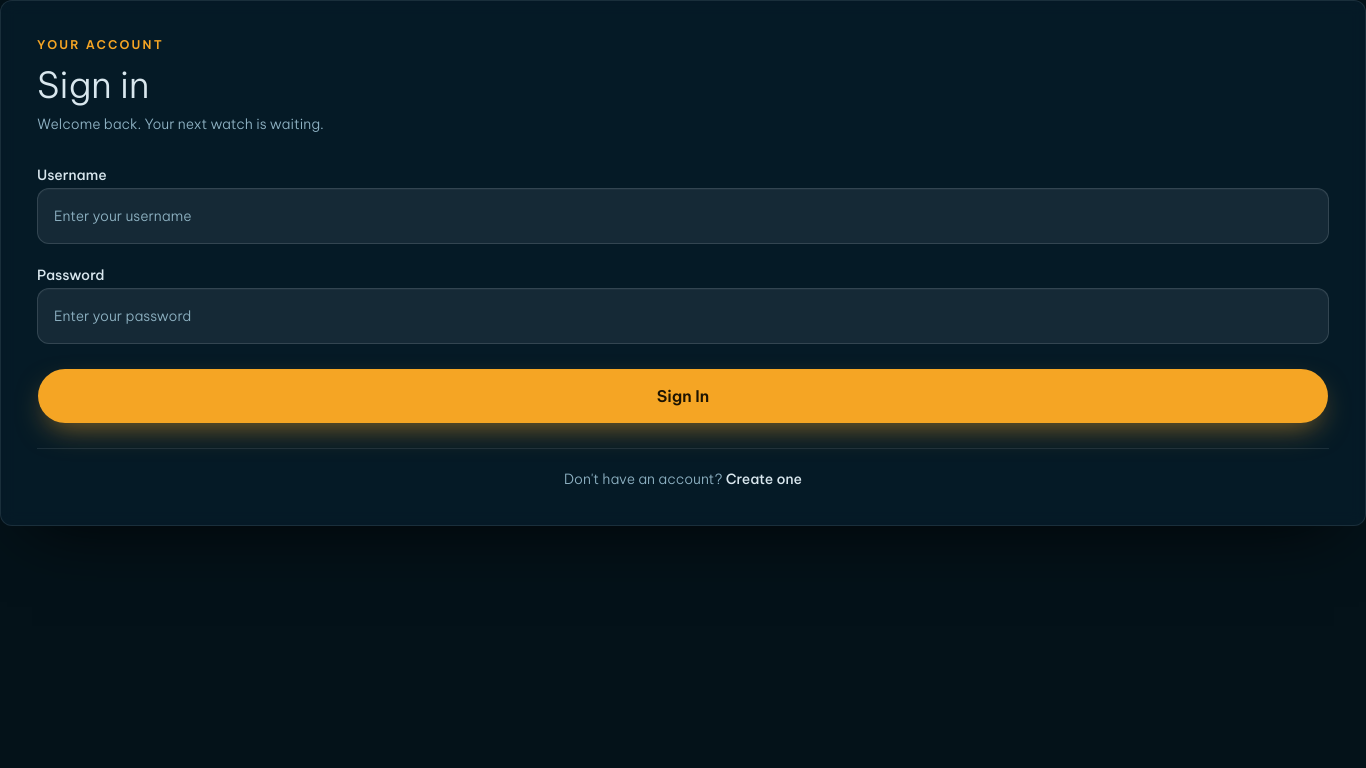
it: LoginForm › shows a fallback message when the failure has no error envelope
This screenshot has width=1366, height=768.
In the field labelled "Username": coordinates (683, 216) [37,188,1329,244], type "someuser"
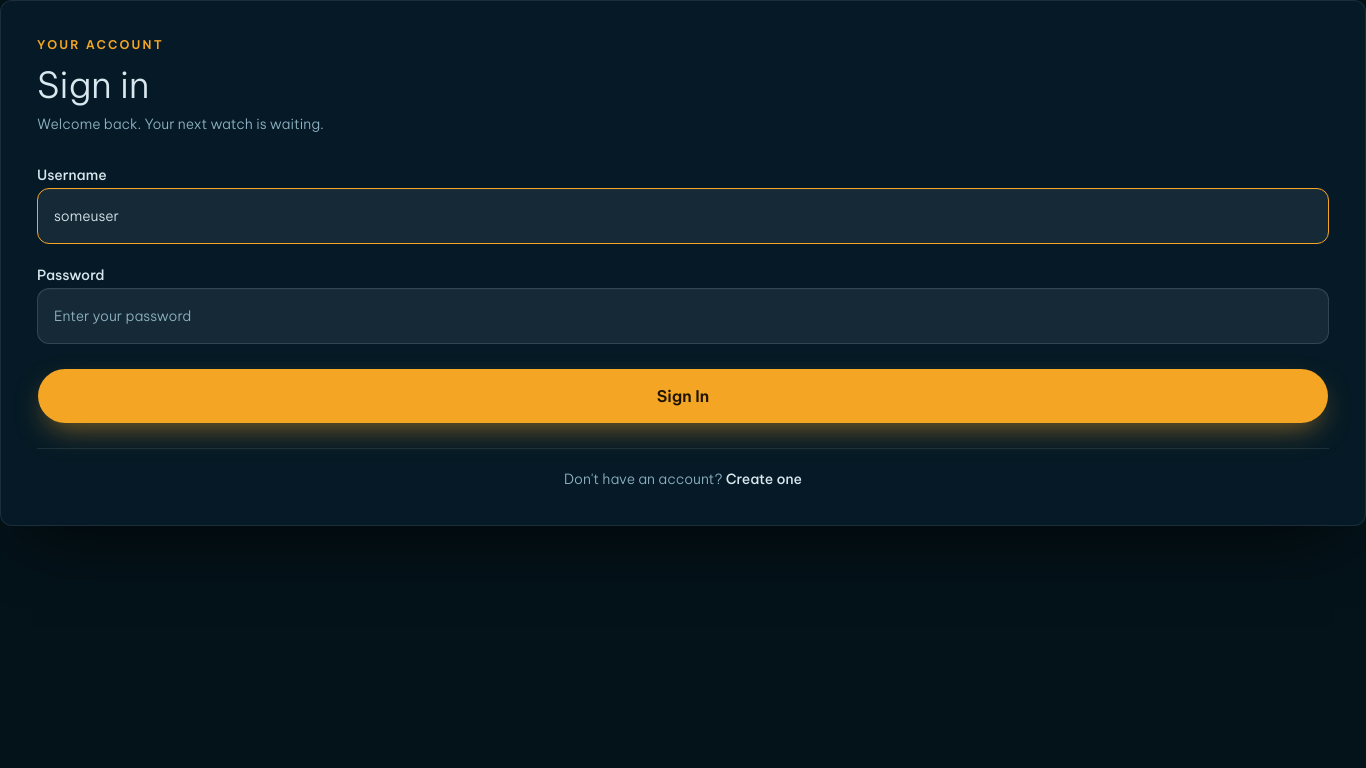
In the password field labelled "Password": coordinates (683, 316) [37,288,1329,344], type "wrongpass"
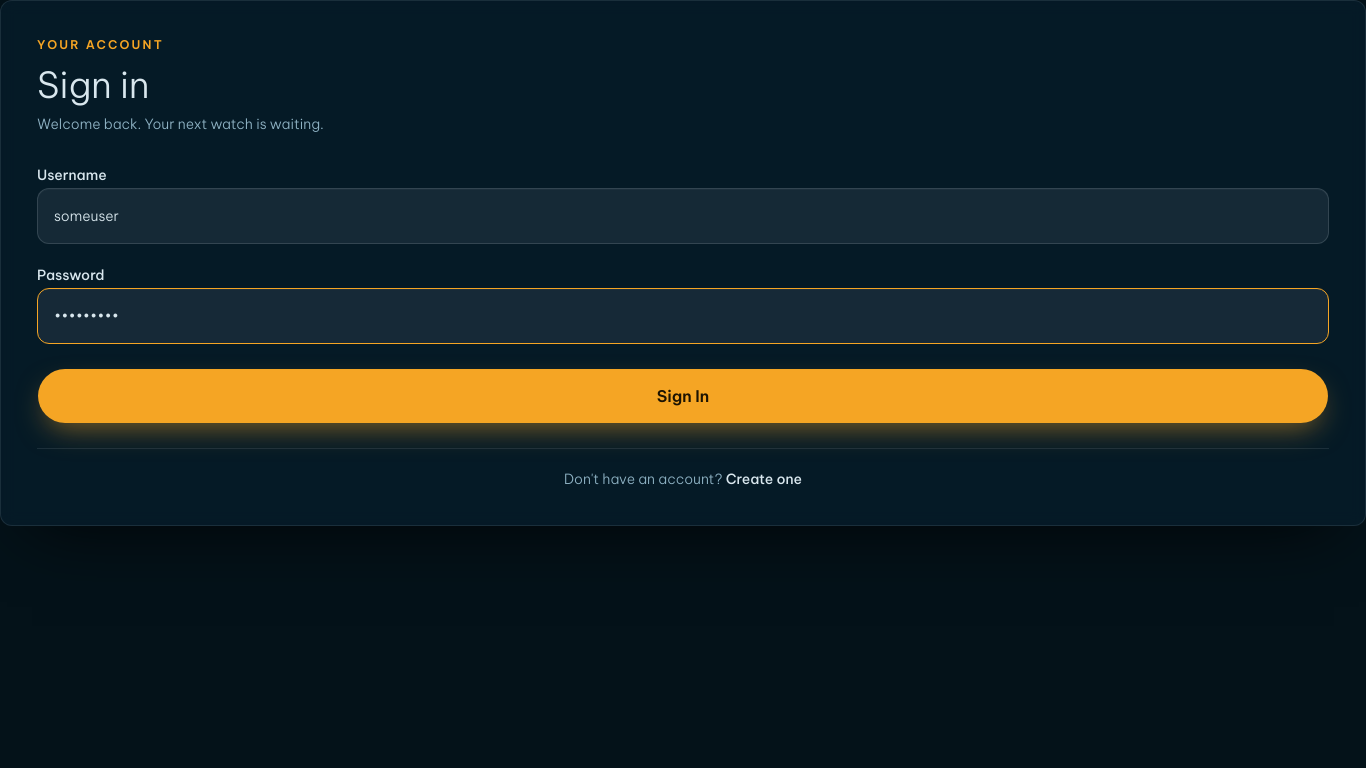
Click the button "Sign In": coordinates (683, 396) [37,368,1329,424]
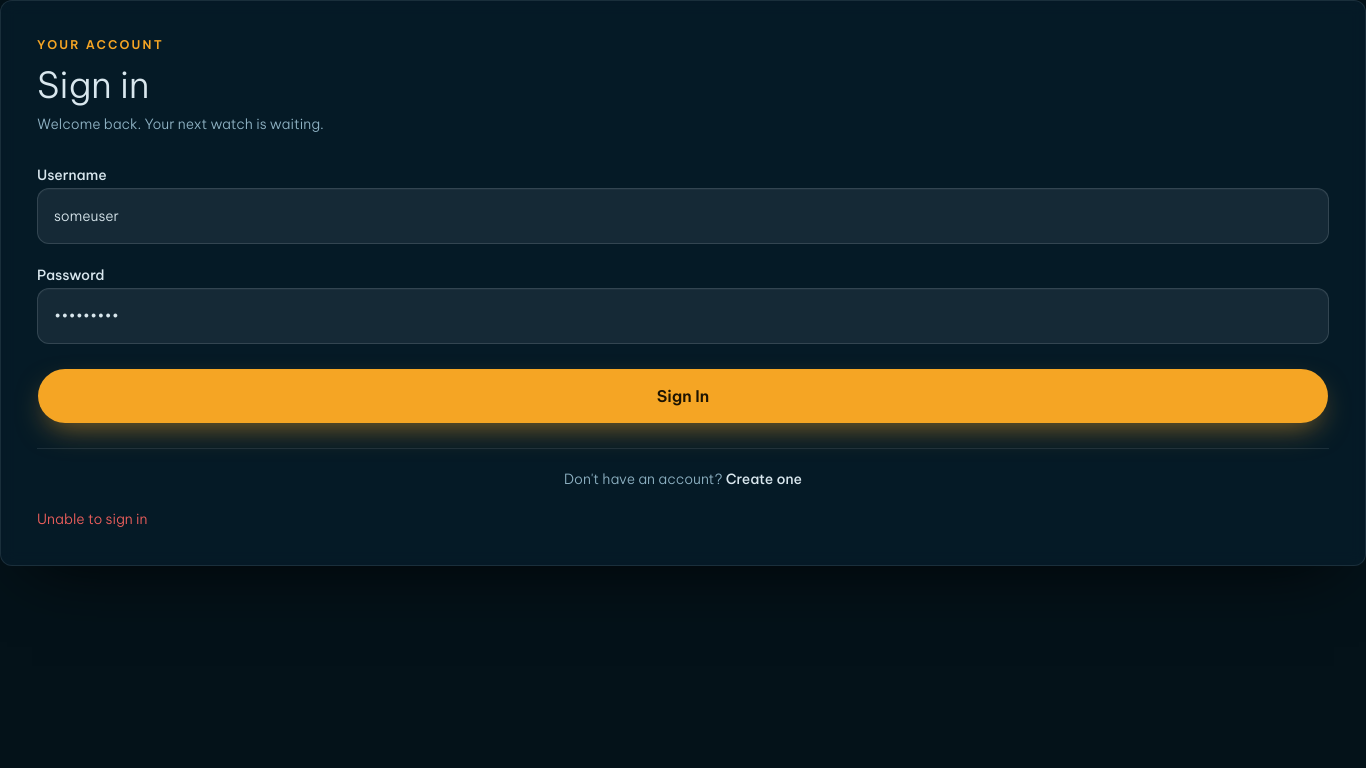
Now the message reads "Unable to sign in", box [37,510,147,528]
